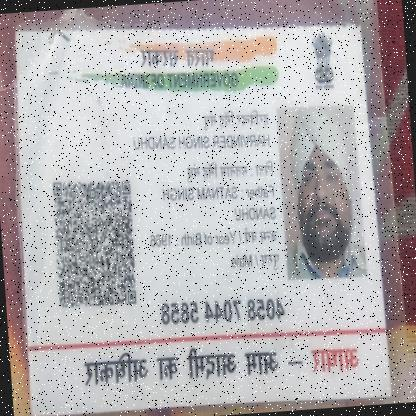aadhaar_card: (4, 19, 393, 415)
